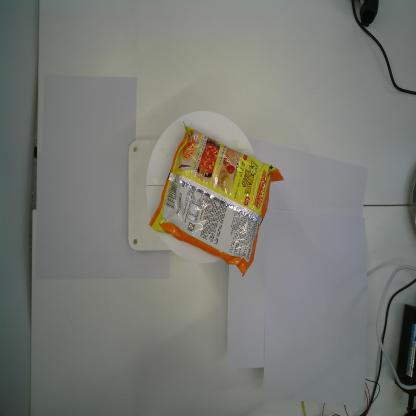Instant Noodles: (148, 121, 285, 278)
